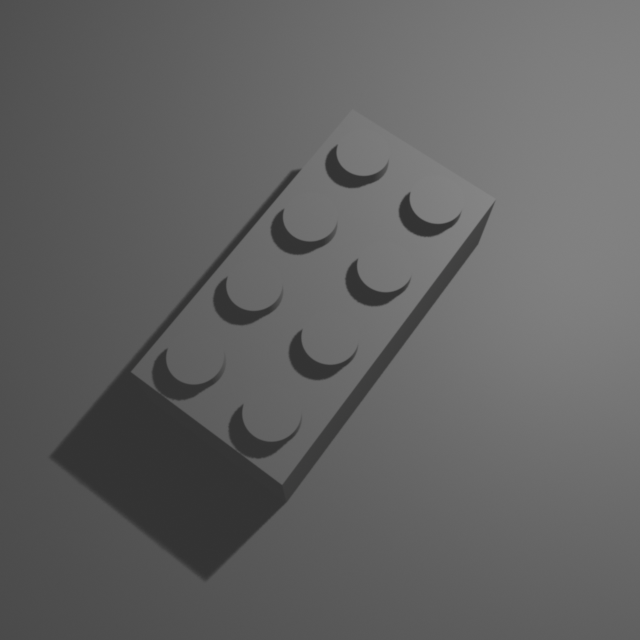lego_2x4: (127, 99, 499, 503)
